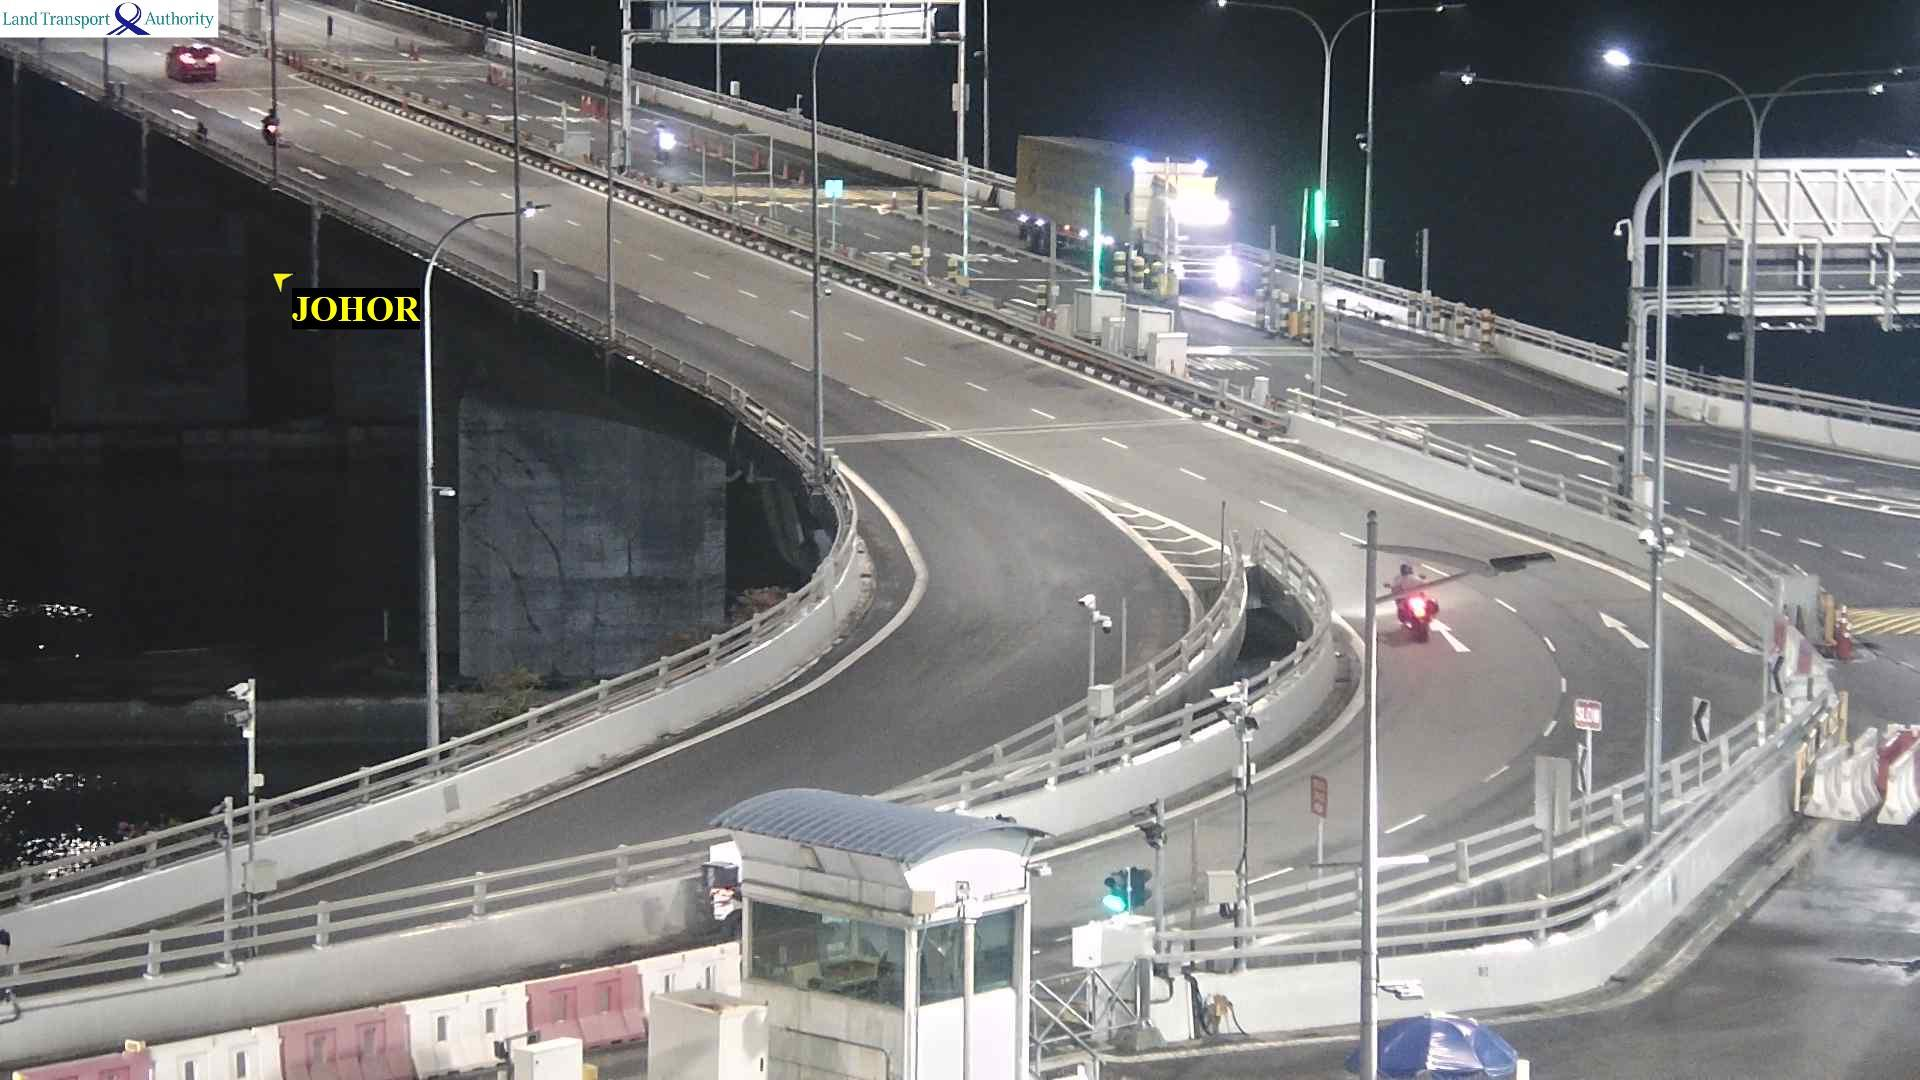vehicle-causeway-singapore: (1019, 137, 1235, 296), (646, 123, 672, 157)
vehicle-secondlink-johor: (1390, 582, 1435, 641), (169, 44, 221, 83), (262, 109, 288, 147)
